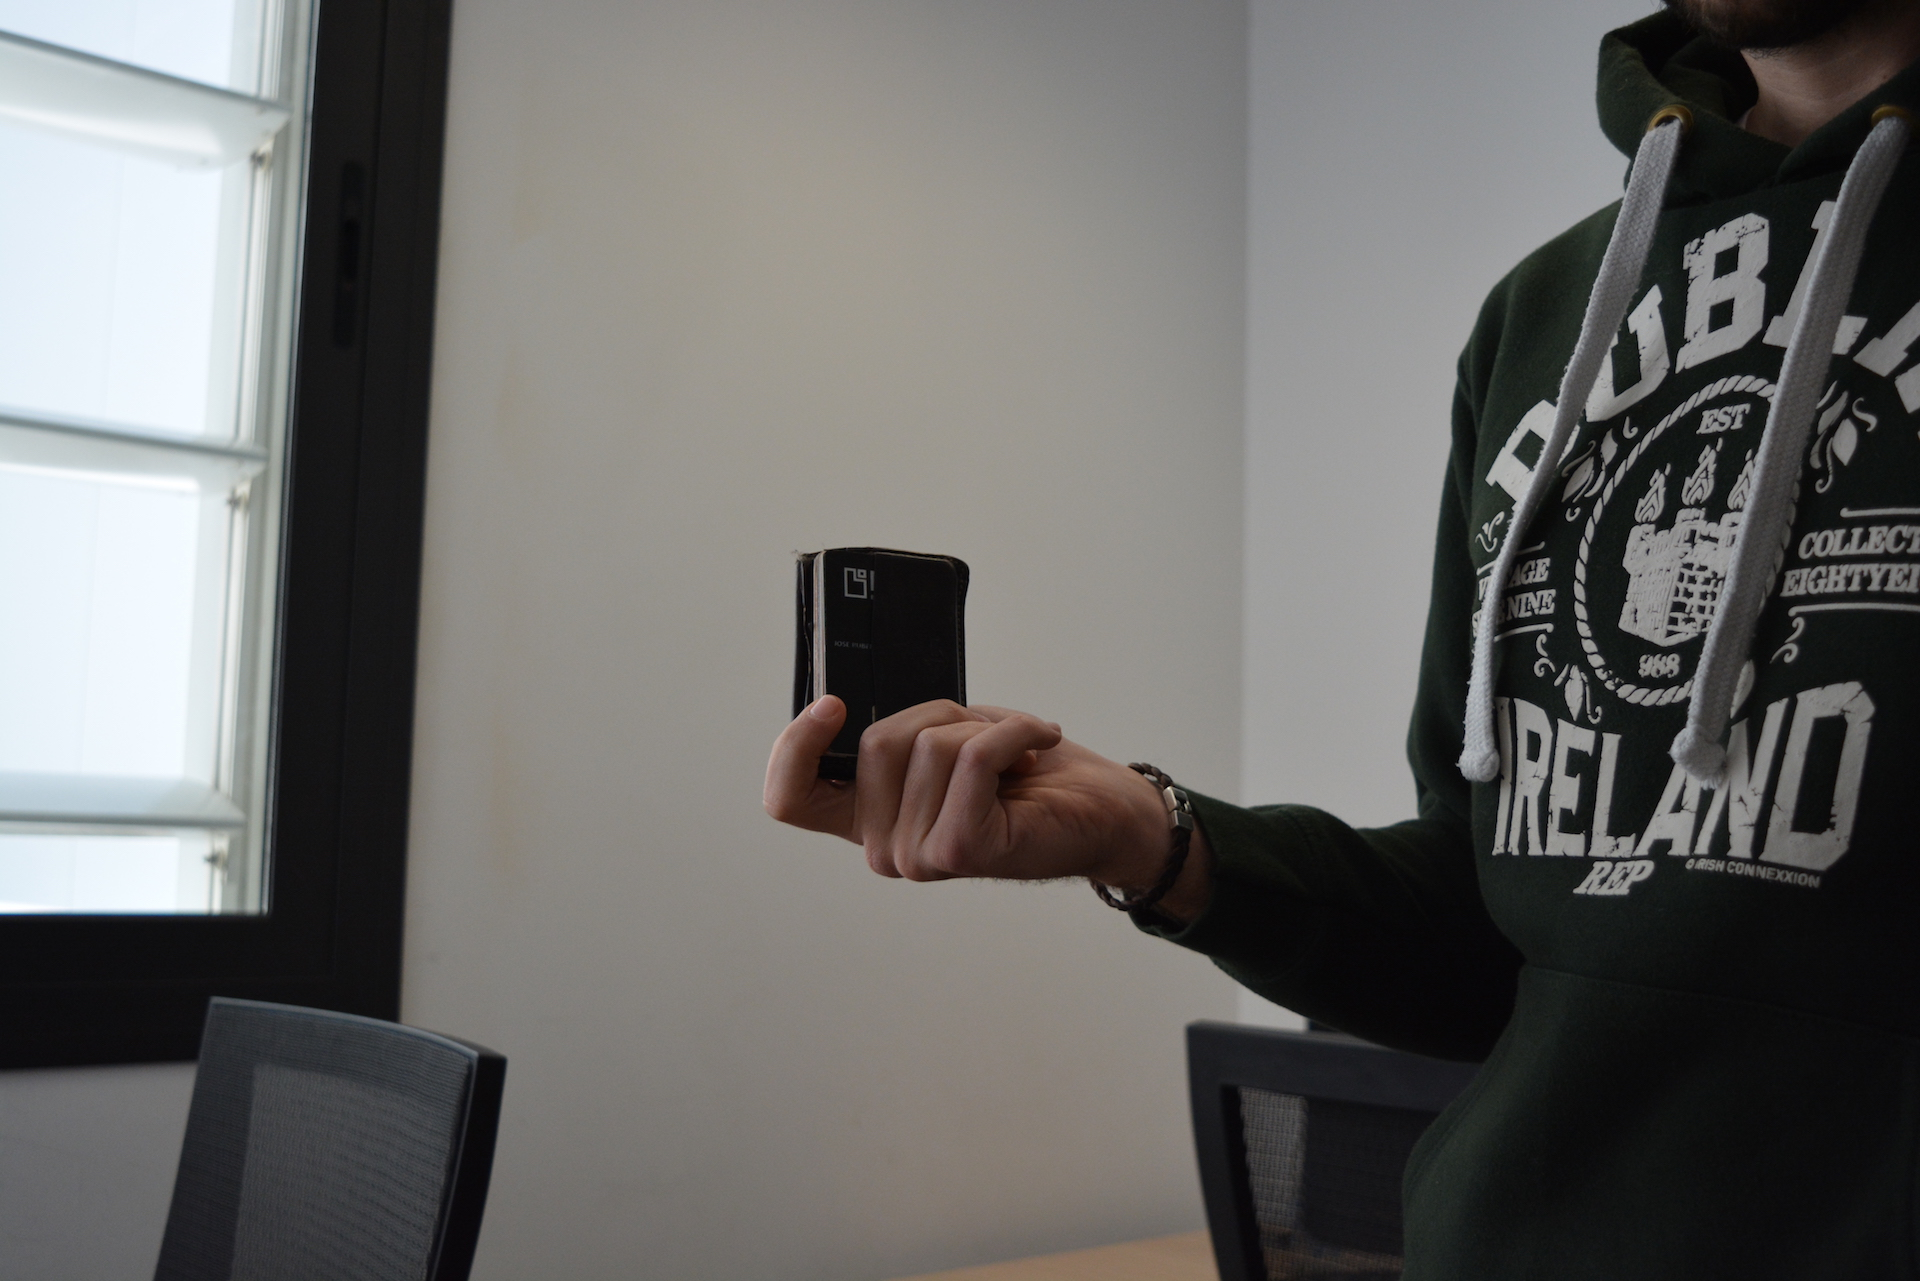monedero: (791, 545, 974, 791)
